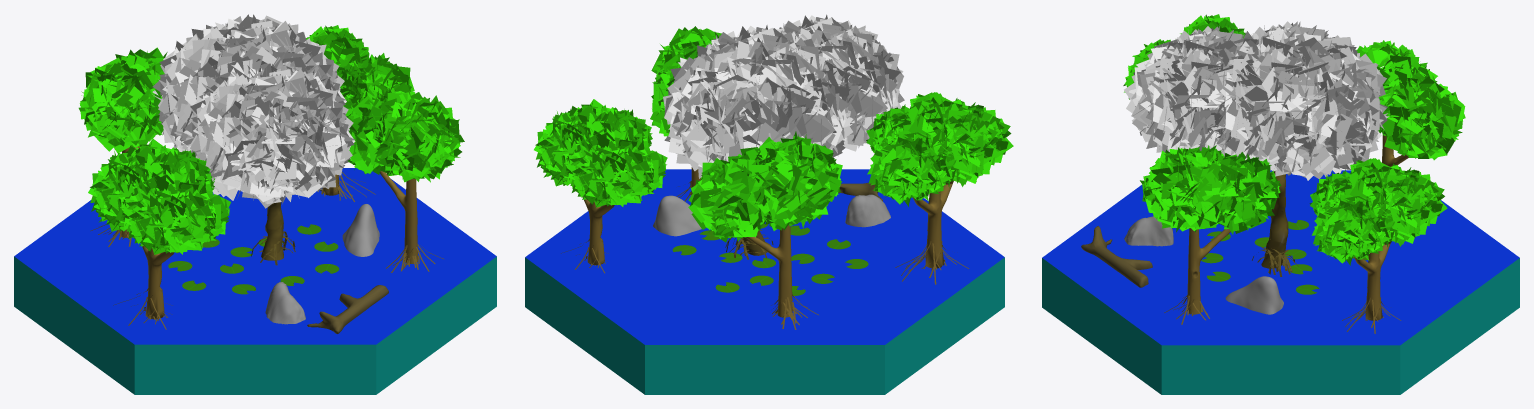
Rendered from Tuile_Eau_Foret_Niv4.fbx.
3 renders of one model, left to right at view 1: azimuth 30°, elevation 25°; view 2: azimuth 150°, elevation 25°; view 3: azimuth 270°, elevation 25°, orthographic.
Parts seen in each view (by area): view 1: Tuile, Plane.010, Cylinder, Cylinder.002, Cylinder.003, Cylinder.001, niv1.004, niv1.003, Niv3.003; view 2: Tuile, Plane.010, Cylinder.003, Cylinder, Cylinder.001, Cylinder.002, niv1.004, niv1.003, Niv3.003; view 3: Tuile, Plane.010, Cylinder.001, Cylinder.002, Cylinder.003, niv1.004, Niv3.003, niv1.003, Cylinder.
Part boxes in pixels (<box>): Tuile: <box>14,168,496,394</box>; Plane.010: <box>152,14,355,265</box>; Cylinder: <box>88,138,230,329</box>; Cylinder.002: <box>343,90,464,272</box>; Cylinder.003: <box>78,47,167,246</box>; Cylinder.001: <box>306,25,414,201</box>; niv1.004: <box>265,204,379,324</box>; niv1.003: <box>168,224,339,294</box>; Niv3.003: <box>307,285,388,333</box>; Tuile: <box>525,169,1004,394</box>; Plane.010: <box>663,14,904,259</box>; Cylinder.003: <box>688,131,842,329</box>; Cylinder: <box>866,92,1013,284</box>; Cylinder.001: <box>534,99,667,273</box>; Cylinder.002: <box>650,26,721,201</box>; niv1.004: <box>653,194,890,236</box>; niv1.003: <box>672,224,868,295</box>; Niv3.003: <box>806,182,882,201</box>; Tuile: <box>1042,170,1519,394</box>; Plane.010: <box>1124,21,1389,276</box>; Cylinder.001: <box>1309,158,1447,333</box>; Cylinder.002: <box>1140,145,1281,324</box>; Cylinder.003: <box>1355,40,1465,166</box>; niv1.004: <box>1124,216,1283,314</box>; Niv3.003: <box>1081,226,1152,287</box>; niv1.003: <box>1201,220,1368,294</box>; Cylinder: <box>1123,14,1245,99</box>.
Bounding box in the file's own units: 114 × 78.57 × 124.
